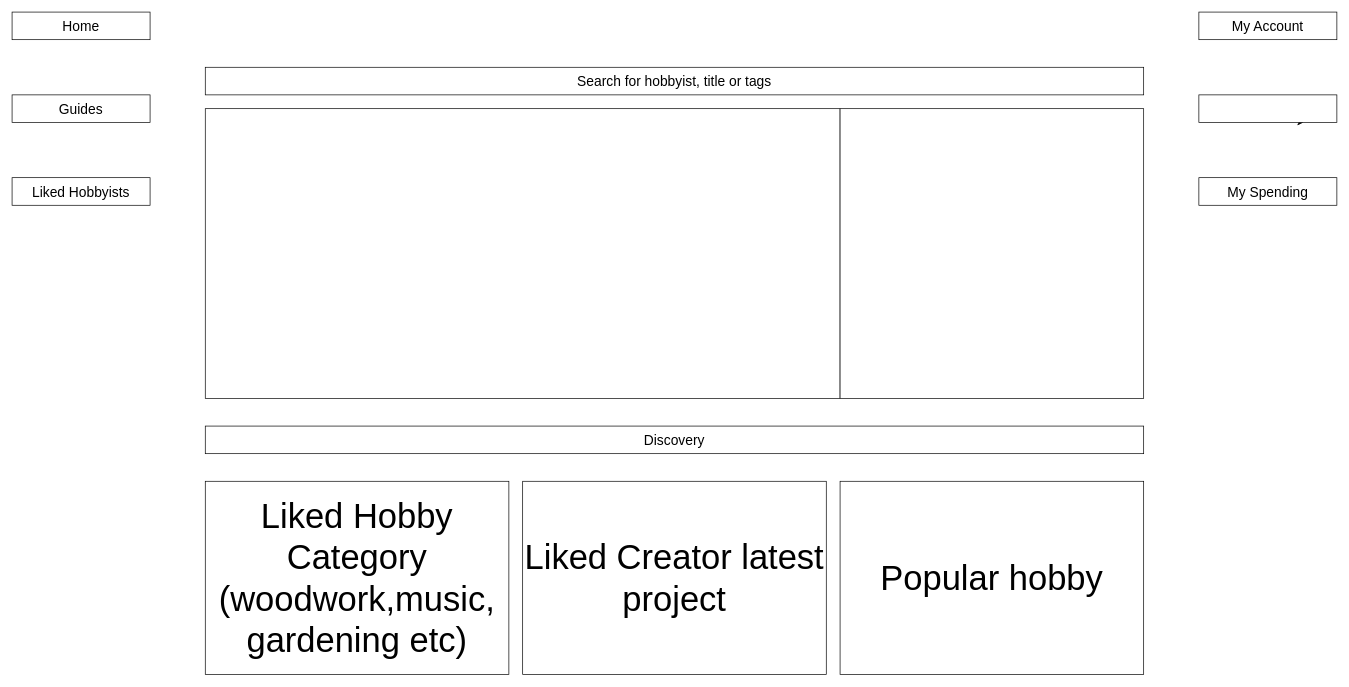
This 1349x687 diagram has some shape labels left out. The shapes that lost their labels are listed below. From the top down, each one's centre as x and y in pixels, then its label:
pixel 1267 108: My Logs
pixel 522 253: My Latest Project Photo
pixel 991 253: Latest Project Caption
